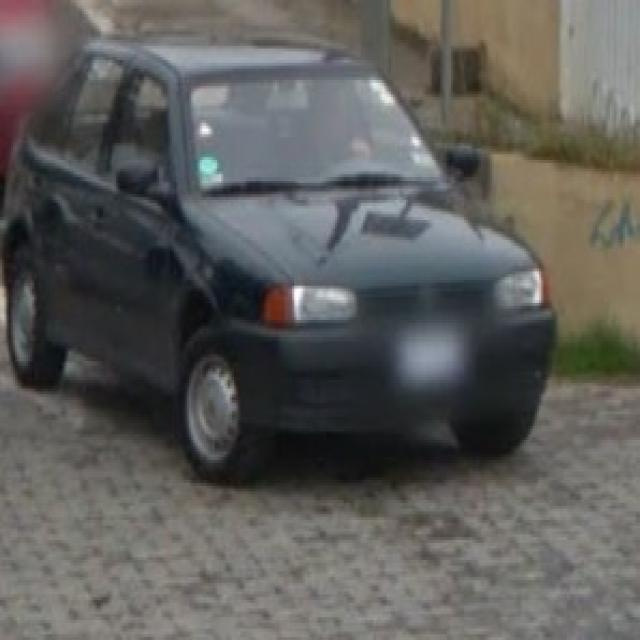Car: (7, 33, 552, 470)
